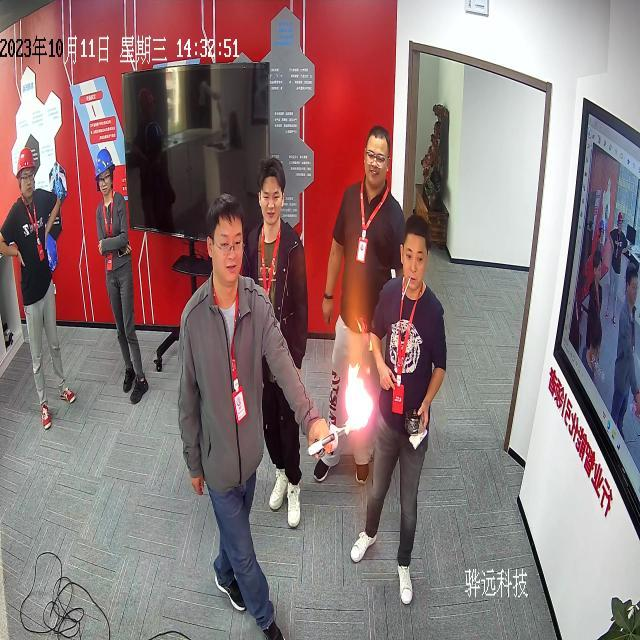Fire: (345, 362, 373, 433)
